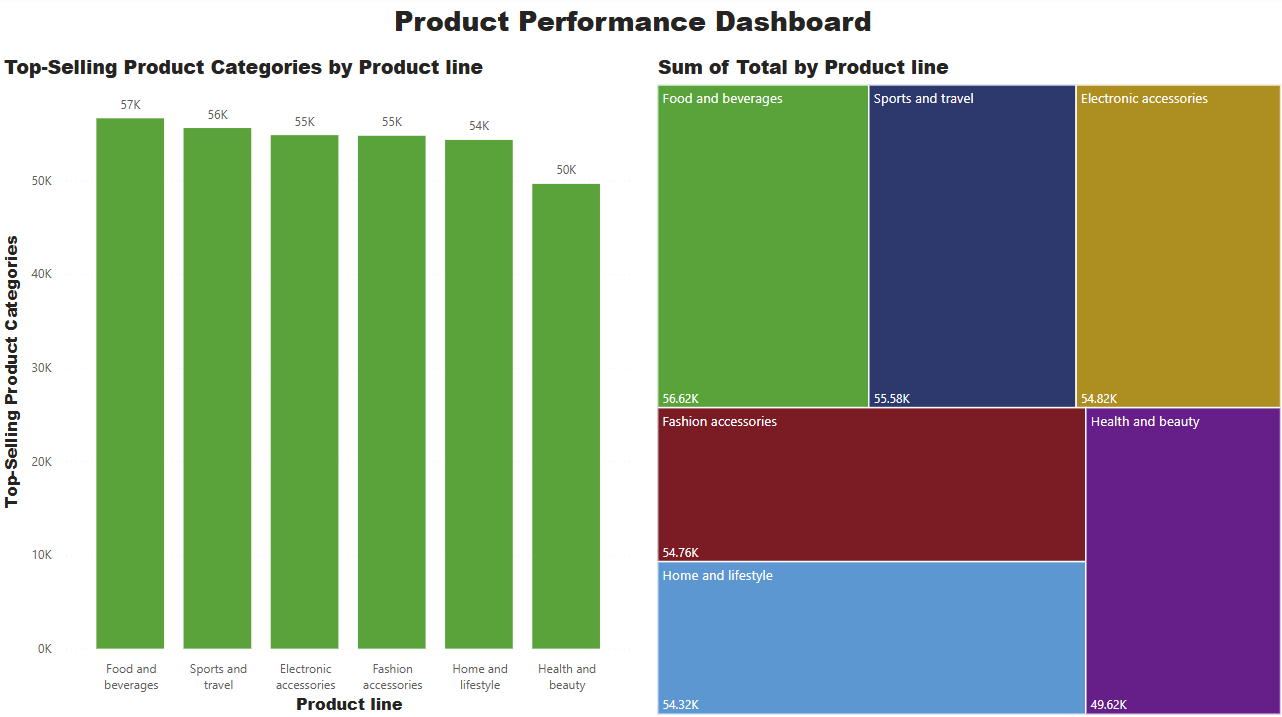

The dashboard page shown, as its layout file describes it:
{"tool":"powerbi","page":{"name":"Product Performance Dashboard","canvas":[1280,720],"ordinal":2},"visuals":[{"type":"columnChart","fields":{"Category":["RetailStore Dataset.Product line"],"Y":["Sum(RetailStore Dataset.Total)"]},"box":[0,57.1,640,662.9],"z":0},{"type":"treemap","fields":{"Group":["RetailStore Dataset.Product line"],"Values":["Sum(RetailStore Dataset.Total)"]},"box":[650,57.1,630,662.9],"z":1000},{"type":"textbox","box":[388.6,0,522.9,57.1],"z":2000}]}

Visuals, with their boxes in screenshot pixels (x1, y1, x2, y2), scaled from the page's 1280x720 canvas onto the 1282x717 screenshot:
columnChart - RetailStore Dataset.Product line x Sum(RetailStore Dataset.Total): 0 57 641 716
treemap - RetailStore Dataset.Product line x Sum(RetailStore Dataset.Total): 651 57 1281 716
textbox: 389 0 913 57
